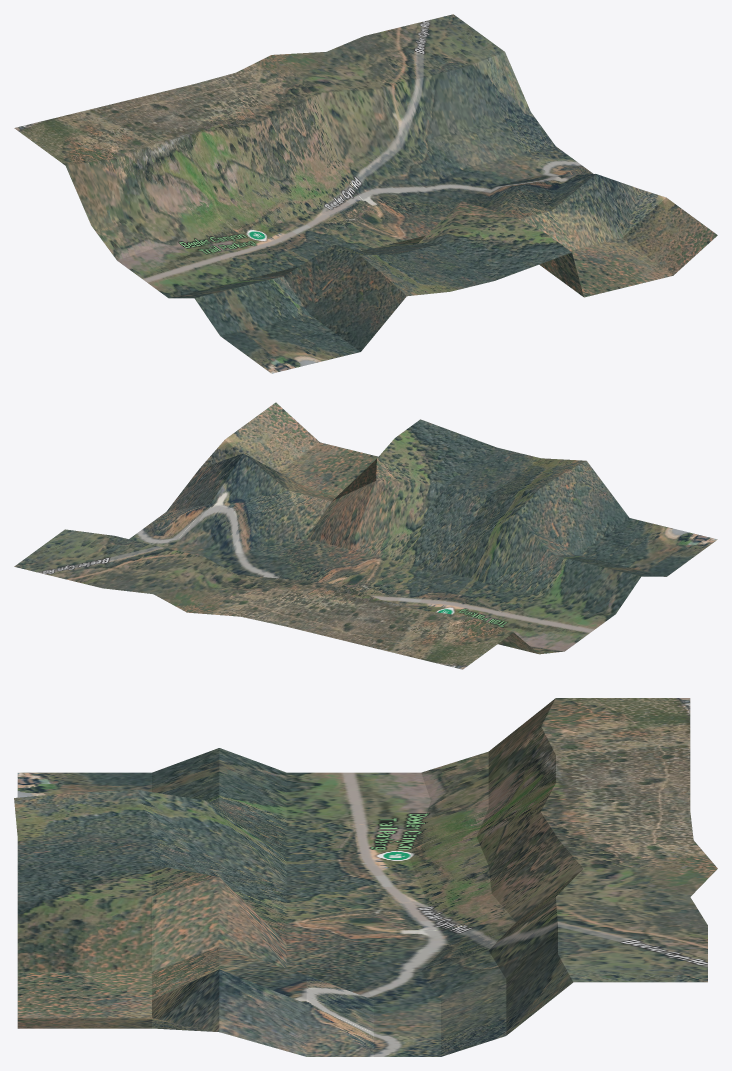
File: beelercyn.obj
3 views of the same model, one above another, from view 1: azimuth 30°, elevation 25°; view 2: azimuth 150°, elevation 25°; view 3: azimuth 270°, elevation 25° (orthographic). The views are drawn at different scales.
Visible parts, largest first — view 1: beelercyn; view 2: beelercyn; view 3: beelercyn.
Boxes of the visible parts, left/top/right/bottom form: beelercyn: left=14, top=14, right=717, bottom=373; beelercyn: left=14, top=402, right=717, bottom=669; beelercyn: left=14, top=698, right=717, bottom=1056.
Size of what is drawn, in the model's own units: 17.68 by 2.16 by 18.5.
